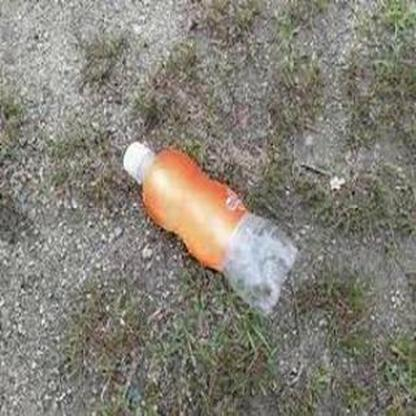plastic bottle: (122, 142, 295, 316)
